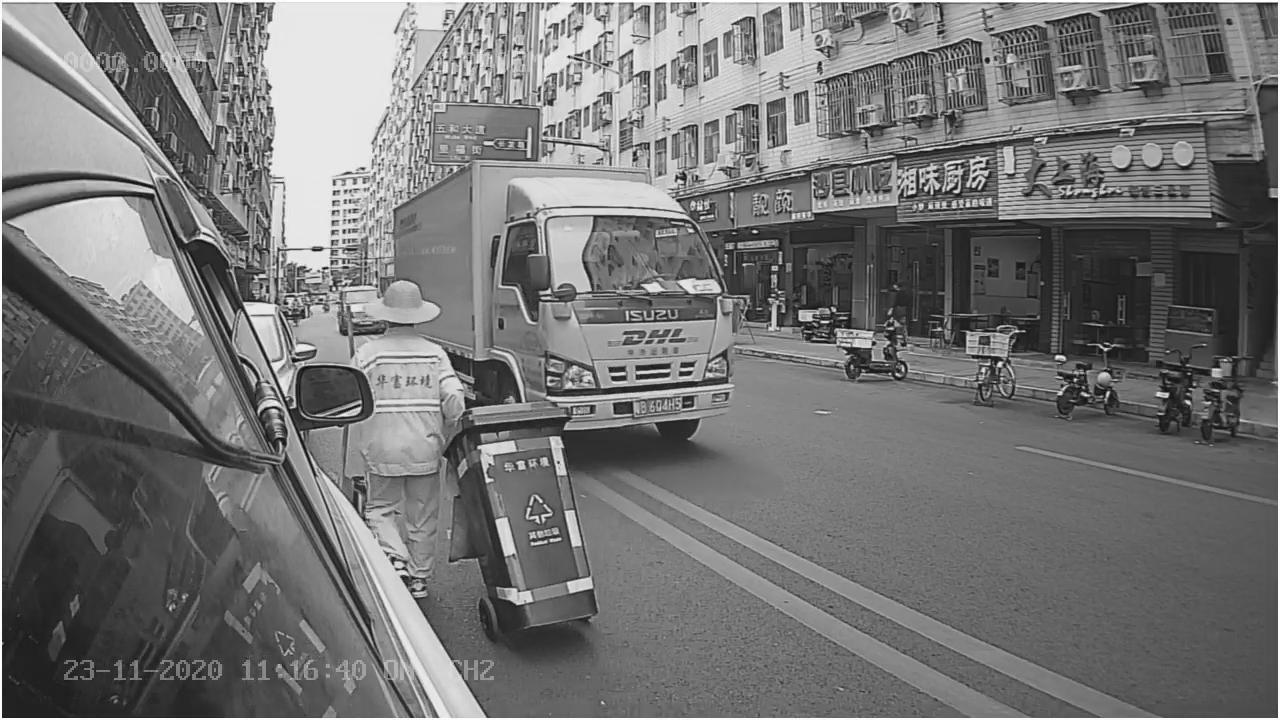person: (357, 273, 467, 409)
